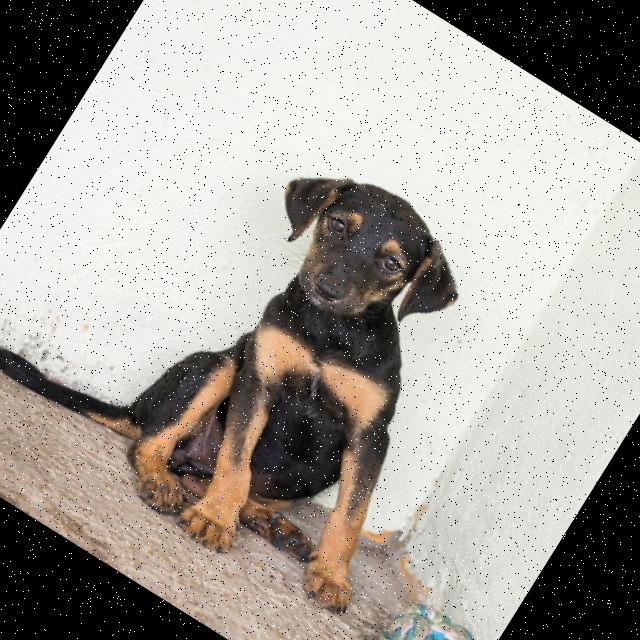Dog: (0, 56, 550, 630)
